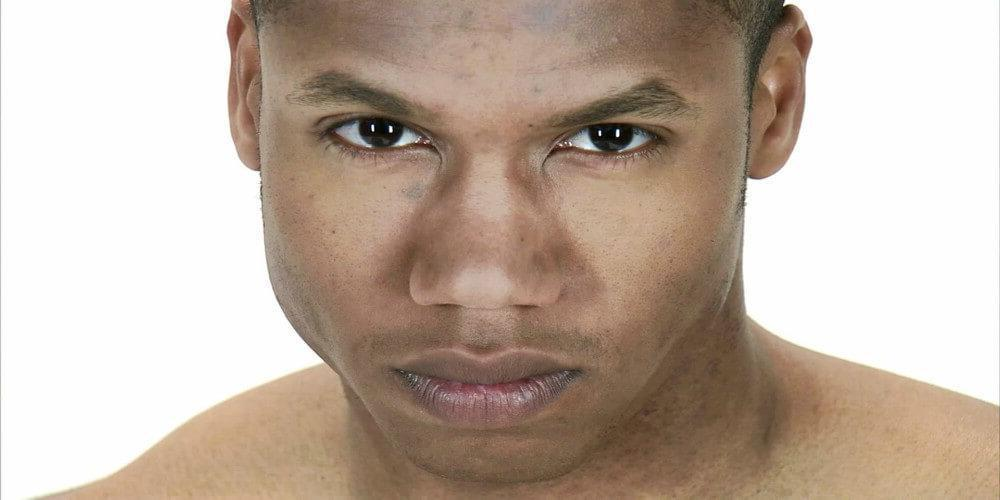Sober: (272, 0, 733, 461)
